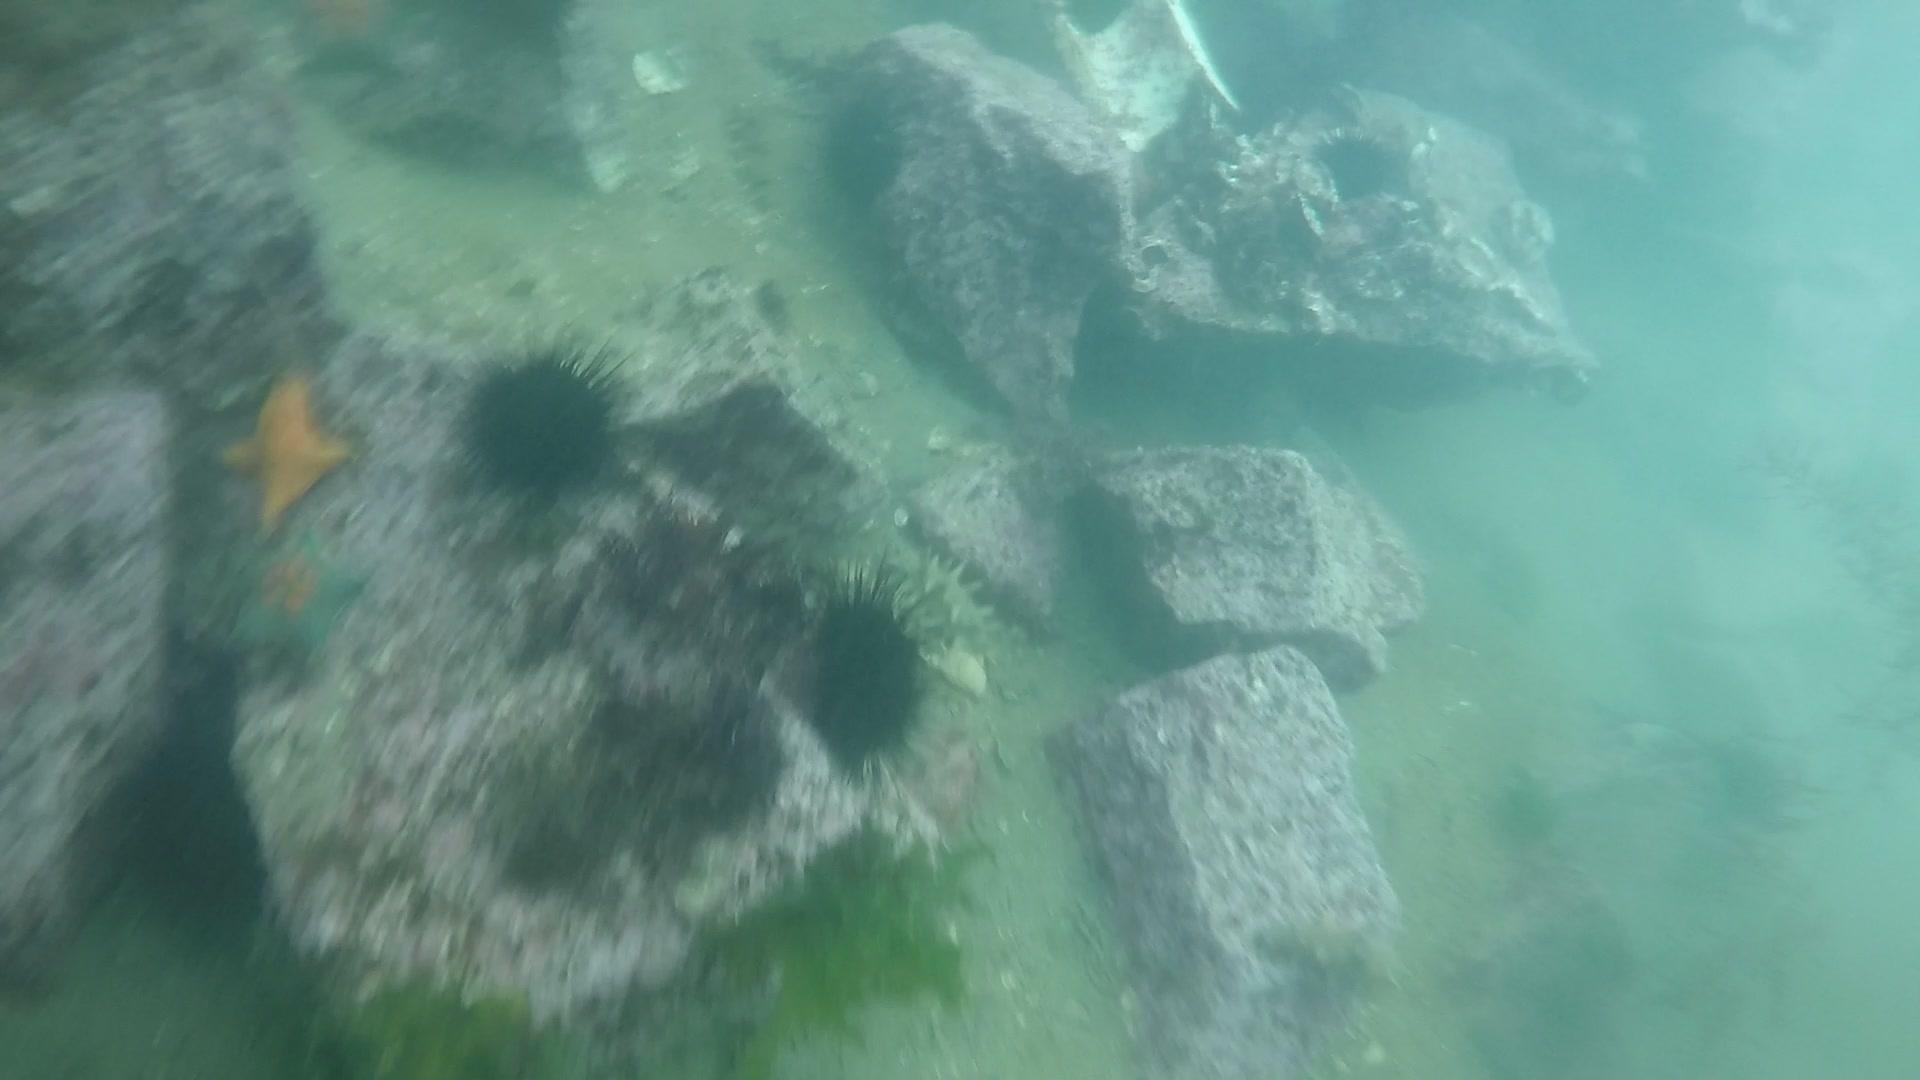echinus: (789, 564, 942, 789), (448, 334, 636, 508), (811, 90, 915, 214), (1309, 124, 1407, 208)
holothurian: (885, 541, 1000, 659), (719, 96, 789, 225)
starfish: (196, 363, 360, 542), (223, 525, 375, 671), (1254, 895, 1390, 996), (277, 3, 429, 84)
